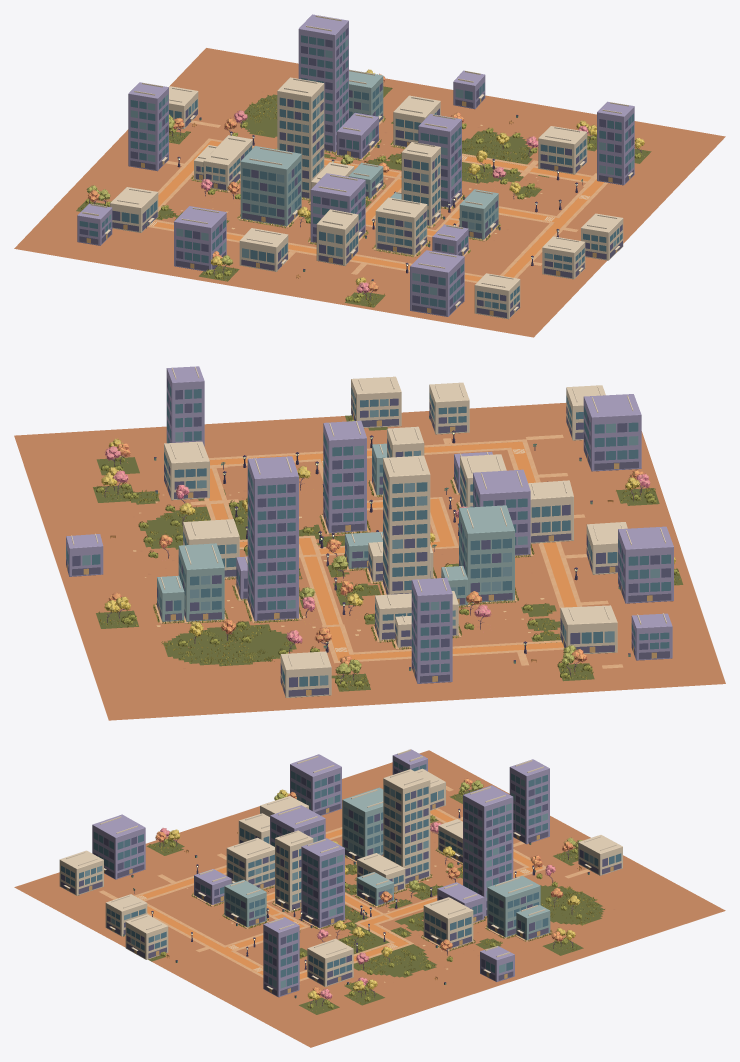
Rendered from city_visual_v08.glb.
The picture shows the model from 3 angles, top to bottom: view 1: azimuth 30°, elevation 25°; view 2: azimuth 150°, elevation 25°; view 3: azimuth 270°, elevation 25°; orthographic projection. The views are drawn at different scales.
Visible parts, largest first — view 1: Ground_Extension_Seamless, City_Base, B08_Gate_B_Tower, Continuous_Lawns, Extended_Street_Network, B07_Gate_A_Tower, B10_Northwest_Hotel, Continuous_Sidewalks, B08_Gate_B_Tower_Facade, EXT_07, EXT_01, B10_Northwest_Hotel_Facade (+46 smaller); view 2: Ground_Extension_Seamless, City_Base, Continuous_Lawns, B08_Gate_B_Tower, Extended_Street_Network, B08_Gate_B_Tower_Facade, B07_Gate_A_Tower, Continuous_Sidewalks, B10_Northwest_Hotel, B07_Gate_A_Tower_Facade, B13_East_Campus, Grouped_Lawns_Extended (+42 smaller); view 3: Ground_Extension_Seamless, City_Base, Continuous_Lawns, B08_Gate_B_Tower, B07_Gate_A_Tower, B07_Gate_A_Tower_Facade, B08_Gate_B_Tower_Facade, Extended_Street_Network, Continuous_Sidewalks, B13_East_Campus, B03_T2_East_Tower, EXT_07 (+40 smaller).
Part boxes in pixels (x1,y1,x2,y2): Ground_Extension_Seamless: [14, 48, 725, 337]; City_Base: [155, 83, 591, 274]; B08_Gate_B_Tower: [298, 14, 378, 158]; Continuous_Lawns: [156, 94, 548, 223]; Extended_Street_Network: [150, 140, 603, 281]; B07_Gate_A_Tower: [277, 77, 354, 198]; B10_Northwest_Hotel: [240, 146, 301, 226]; Continuous_Sidewalks: [148, 138, 607, 282]; B08_Gate_B_Tower_Facade: [301, 28, 378, 157]; EXT_07: [128, 82, 168, 171]; EXT_01: [410, 250, 464, 316]; B10_Northwest_Hotel_Facade: [242, 161, 301, 225]; Ground_Extension_Seamless: [14, 403, 725, 720]; City_Base: [108, 463, 563, 675]; Continuous_Lawns: [131, 489, 560, 666]; B08_Gate_B_Tower: [236, 456, 298, 621]; Extended_Street_Network: [209, 441, 577, 660]; B08_Gate_B_Tower_Facade: [236, 468, 296, 619]; B07_Gate_A_Tower: [368, 455, 433, 594]; Continuous_Sidewalks: [204, 439, 581, 663]; B10_Northwest_Hotel: [441, 505, 514, 605]; B07_Gate_A_Tower_Facade: [368, 467, 430, 594]; B13_East_Campus: [157, 543, 224, 621]; Grouped_Lawns_Extended: [93, 415, 683, 691]; Ground_Extension_Seamless: [14, 750, 725, 1047]; City_Base: [162, 807, 632, 995]; Continuous_Lawns: [299, 819, 604, 991]; B08_Gate_B_Tower: [437, 785, 513, 922]; B07_Gate_A_Tower: [357, 769, 430, 892]; B07_Gate_A_Tower_Facade: [358, 785, 428, 891]; B08_Gate_B_Tower_Facade: [438, 801, 511, 921]; Extended_Street_Network: [137, 809, 543, 979]; Continuous_Sidewalks: [134, 808, 546, 981]; B13_East_Campus: [487, 876, 550, 940]; B03_T2_East_Tower: [301, 838, 344, 928]; EXT_07: [509, 759, 549, 844].
Bounding box in the file's own units: 283 × 50.45 × 286.
Materials: 37 (1 with a texture image).
